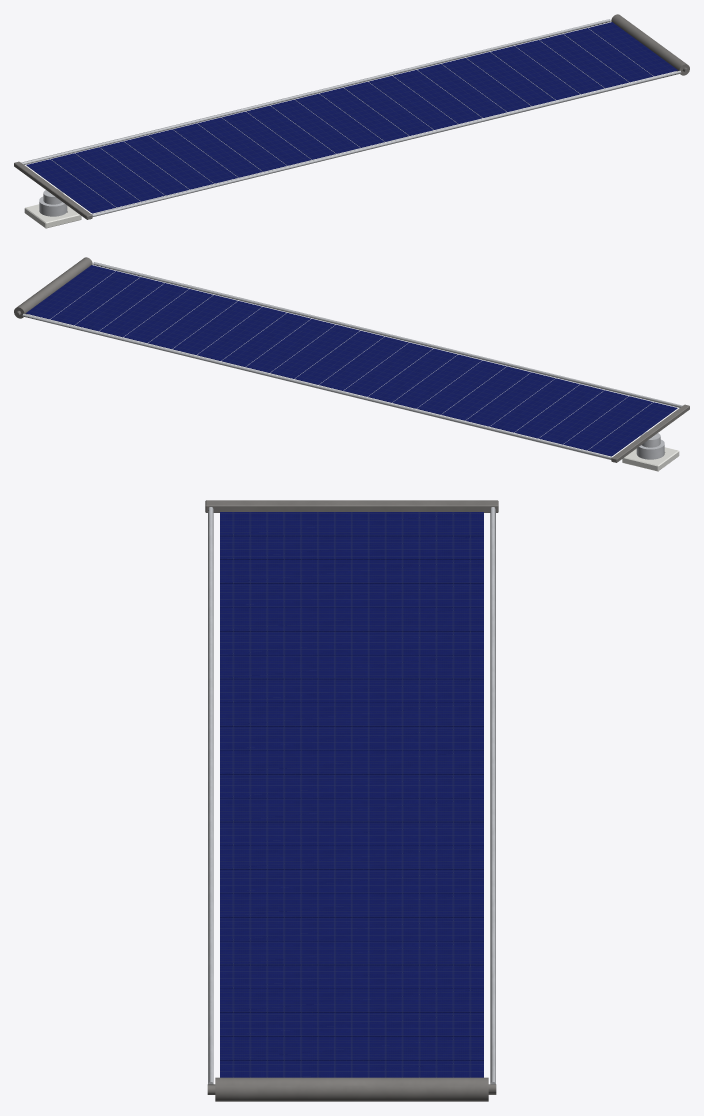
Rendered from ax_power_01_roll_out_array_l_deployed.glb.
3 views of the same model, one above another, from view 1: azimuth 30°, elevation 25°; view 2: azimuth 150°, elevation 25°; view 3: azimuth 270°, elevation 25° (orthographic). The views are drawn at different scales.
Parts seen in each view (by area): view 1: panel_blanket, boom_1, boom_2, panel_roll, yoke, mount_block, gimbal; view 2: panel_blanket, boom_2, boom_1, panel_roll, yoke, mount_block, gimbal; view 3: panel_blanket, panel_roll, yoke, boom_1, boom_2.
Part boxes in pixels (left/top/right/bottom): panel_blanket: left=26, top=22, right=678, bottom=213; boom_1: left=91, top=70, right=681, bottom=216; boom_2: left=21, top=19, right=610, bottom=164; panel_roll: left=611, top=14, right=689, bottom=75; yoke: left=14, top=161, right=92, bottom=219; mount_block: left=24, top=204, right=81, bottom=228; gimbal: left=39, top=189, right=67, bottom=216; panel_blanket: left=25, top=265, right=677, bottom=456; boom_2: left=22, top=313, right=612, bottom=459; boom_1: left=93, top=262, right=682, bottom=407; panel_roll: left=14, top=257, right=92, bottom=318; yoke: left=611, top=404, right=689, bottom=462; mount_block: left=622, top=447, right=679, bottom=471; gimbal: left=636, top=432, right=664, bottom=459; panel_blanket: left=220, top=512, right=483, bottom=1077; panel_roll: left=207, top=1077, right=496, bottom=1101; yoke: left=205, top=500, right=498, bottom=512; boom_1: left=208, top=507, right=213, bottom=1084; boom_2: left=490, top=507, right=495, bottom=1084.
Bounding box in the file's own units: 12.71 × 0.6175 × 2.6.
4 materials, 3 textured.
